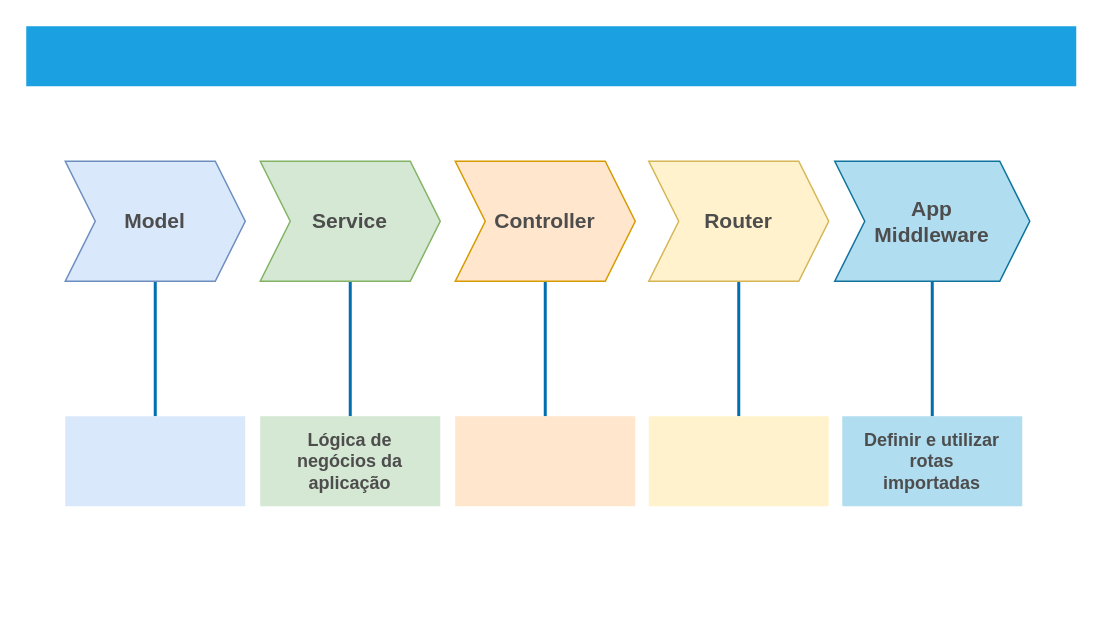
Some shapes in this 1101 by 636 pixel diagram are drawn without their labels. The shapes that lost their labels are listed below. From the top down, each one's centre as x and y in pixels, then its label:
the point at 551,56: Passo a Passo da Arquitetura BackEnd
the point at 154,461: Interfaces e Consultas Base de Dados
the point at 544,461: Lidar com as request e response
the point at 738,461: Definir os endpoints da API
